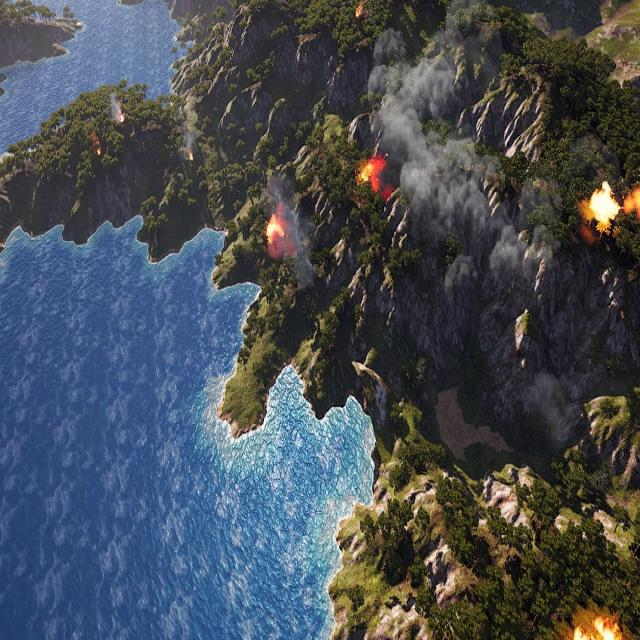fire: (590, 180, 619, 228), (571, 614, 623, 640), (358, 155, 386, 191), (266, 210, 287, 246), (355, 0, 367, 20), (92, 138, 102, 156), (118, 112, 126, 124), (189, 150, 194, 162)
smoke: (368, 27, 558, 290), (270, 173, 316, 287), (108, 91, 122, 125)
